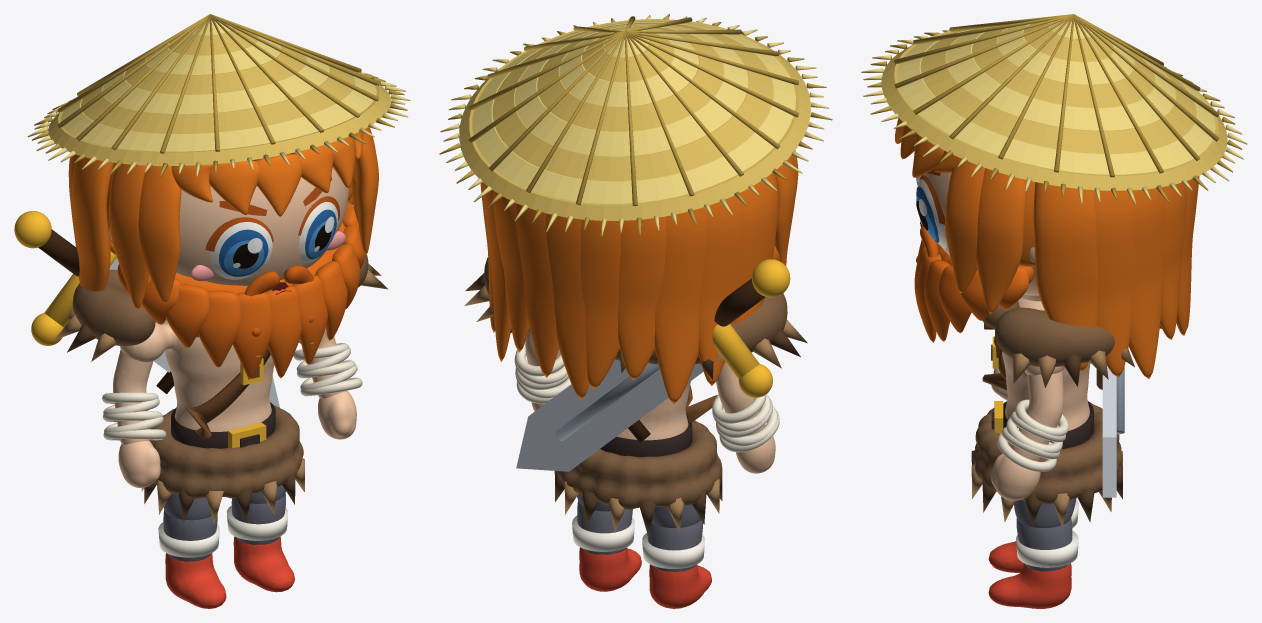
Rendered from iop-berserker-a.glb.
3 renders of one model, left to right at view 1: azimuth 30°, elevation 25°; view 2: azimuth 150°, elevation 25°; view 3: azimuth 270°, elevation 25°, orthographic. The views are drawn at different scales.
Parts seen in each view (by area): view 1: meches, barbe.001, pagne, crane, tunique, cone, cone_bord, cone.001, cone.002, col_fourrure, cone.003, botte (+40 smaller); view 2: meches, cone, cone.001, cone_bord, lame, cone.002, pagne, cone.003, cone.004, cone.005, botte, botte.001 (+32 smaller); view 3: meches, cone, cone.001, cone_bord, cone.002, pagne, col_fourrure, barbe.001, cone.003, cone.004, botte.001, tunique (+29 smaller).
Boxes of the visible parts, x1,y1,x2,y2 form: meches: [68, 127, 378, 309]; barbe.001: [117, 202, 365, 379]; pagne: [150, 405, 303, 498]; crane: [176, 167, 349, 285]; tunique: [120, 319, 274, 431]; cone: [61, 67, 376, 151]; cone_bord: [48, 72, 391, 165]; cone.001: [81, 66, 354, 133]; cone.002: [102, 56, 330, 114]; col_fourrure: [72, 254, 368, 346]; cone.003: [124, 45, 306, 94]; botte: [165, 553, 226, 608]; meches: [480, 150, 798, 404]; cone: [472, 21, 795, 203]; cone.001: [492, 22, 773, 181]; cone_bord: [459, 19, 810, 220]; lame: [516, 352, 722, 471]; cone.002: [515, 24, 748, 156]; pagne: [556, 420, 721, 509]; cone.003: [537, 26, 723, 131]; cone.004: [559, 28, 698, 106]; cone.005: [582, 30, 673, 82]; botte: [649, 564, 711, 608]; botte.001: [579, 547, 641, 591]; meches: [895, 118, 1199, 378]; cone: [897, 29, 1215, 174]; cone.001: [920, 26, 1196, 153]; cone_bord: [881, 31, 1227, 190]; cone.002: [946, 25, 1175, 130]; pagne: [973, 402, 1122, 503]; col_fourrure: [982, 301, 1114, 366]; barbe.001: [914, 239, 1028, 342]; cone.003: [972, 28, 1155, 107]; cone.004: [997, 24, 1134, 84]; botte.001: [988, 563, 1071, 608]; tunique: [1002, 298, 1090, 430].
Bounding box in the file's own units: 2 × 3.15 × 1.92.
